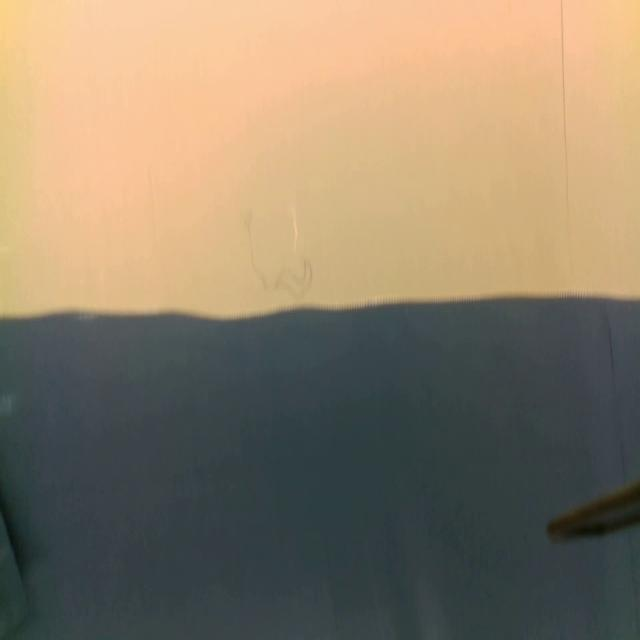crease: (558, 0, 572, 229), (606, 317, 618, 381)
